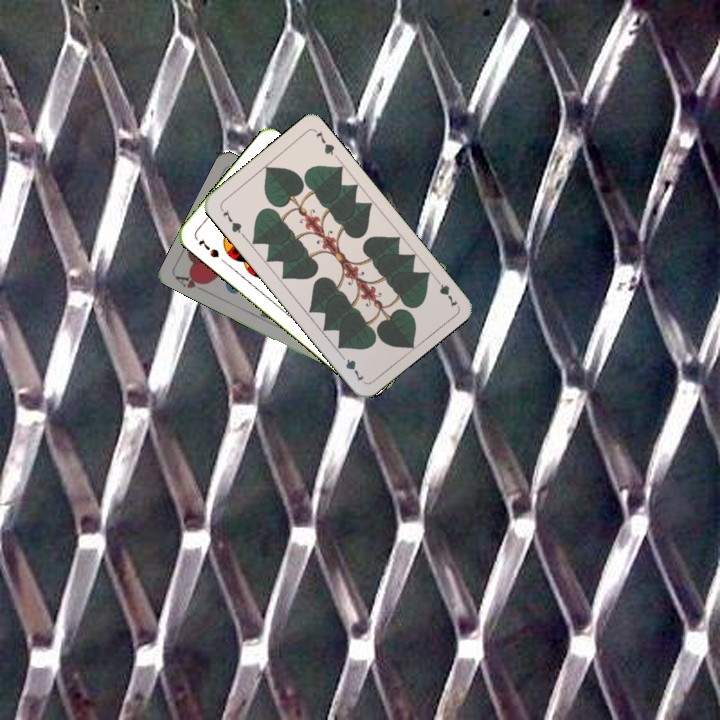G7: (430, 273, 460, 310), (216, 204, 246, 238)
HA: (172, 271, 211, 295)
S7: (194, 235, 222, 260)
